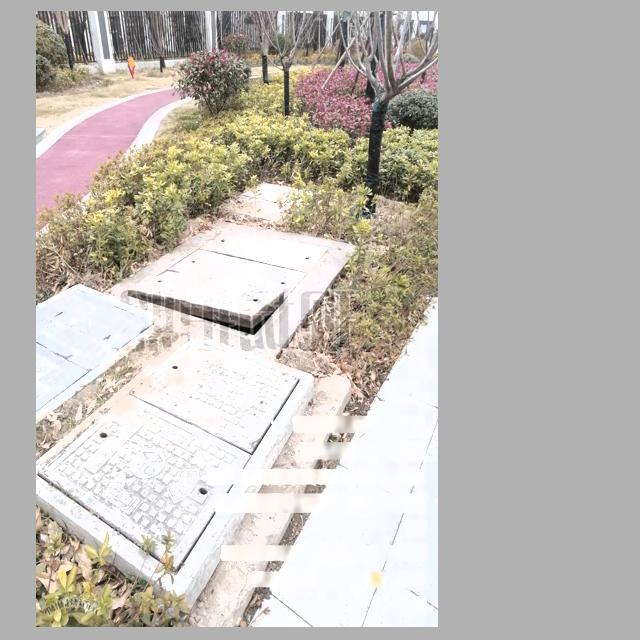good: (36, 329, 316, 610), (36, 283, 165, 423)
uncovered: (124, 225, 332, 340)
